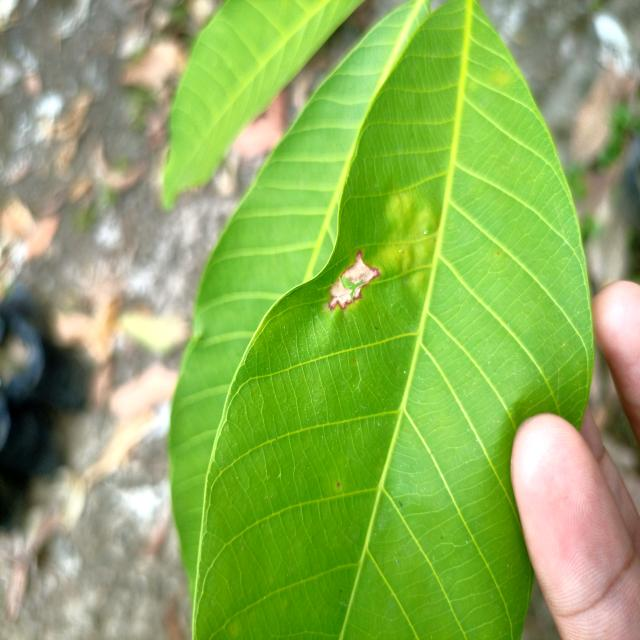Leaf-Blight: (329, 253, 376, 309)
